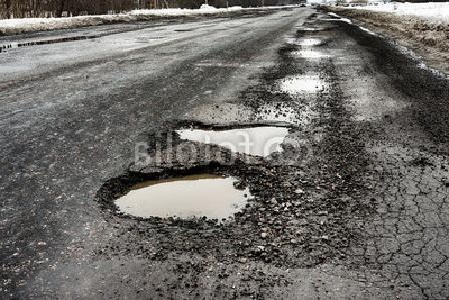pothole: (95, 159, 268, 227), (167, 117, 297, 159), (277, 71, 330, 97), (285, 47, 328, 59), (288, 36, 323, 46)
